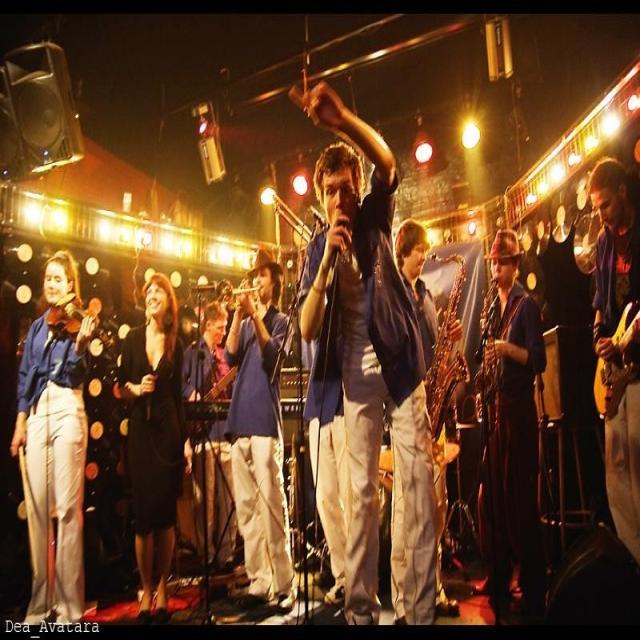guitar: (592, 298, 640, 424)
saxophone: (420, 241, 473, 443), (470, 274, 505, 432)
violin: (45, 291, 116, 351)
